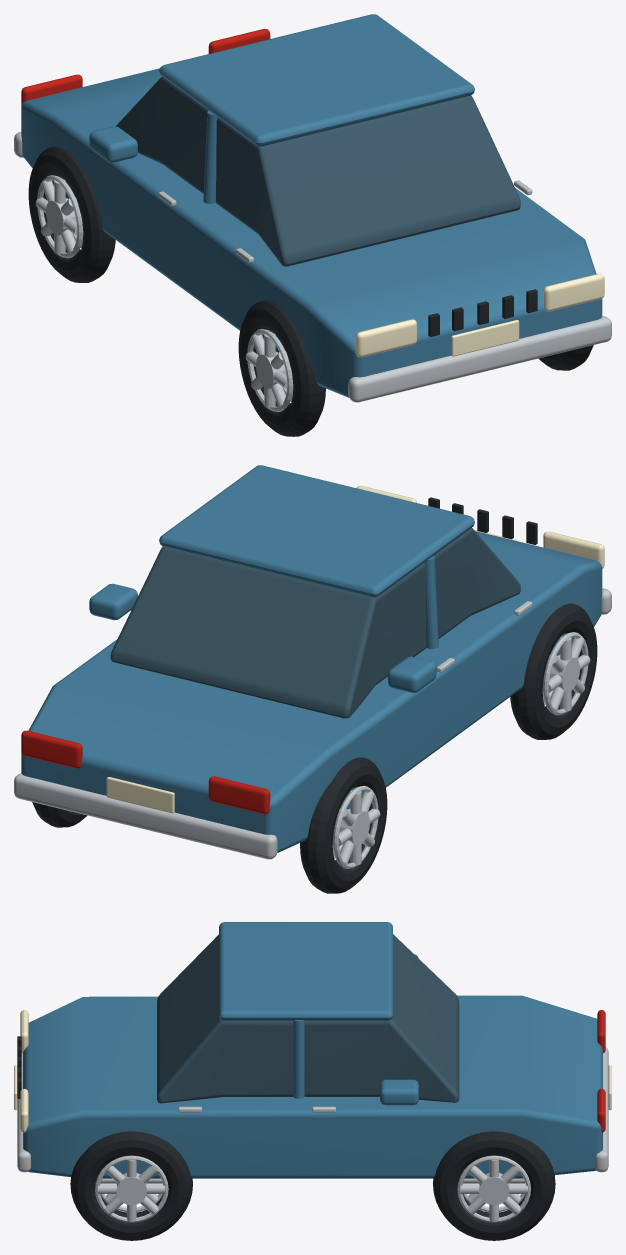
Rendered from sedan.glb.
3 renders of one model, top to bottom at view 1: azimuth 30°, elevation 25°; view 2: azimuth 150°, elevation 25°; view 3: azimuth 270°, elevation 25°, orthographic. The views are drawn at different scales.
Visible parts, largest first — view 1: Sculpted lower body, Cabin glass, Roof, Bumper, WheelFrontL_tire, WheelRearL_tire, Headlamp, Headlamp.001, License plate, Mirror, B pillar, Torus.004 (+6 smaller); view 2: Sculpted lower body, Cabin glass, Roof, Bumper.001, WheelRearL_tire, WheelFrontL_tire, Tail light, Tail light.001, License plate.001, Mirror, Mirror.001, Headlamp (+6 smaller); view 3: Sculpted lower body, Cabin glass, Roof, WheelRearR_tire, WheelFrontR_tire, Mirror.001, Torus.008, Torus.011, B pillar.001, Bumper.001, WheelFrontR_hub, WheelRearR_hub (+1 smaller).
Boxes of the visible parts, x1,y1,x2,y2 form: Sculpted lower body: [21, 68, 602, 397]; Cabin glass: [116, 76, 520, 266]; Roof: [159, 14, 474, 146]; Bumper: [348, 316, 611, 402]; WheelFrontL_tire: [238, 300, 325, 436]; WheelRearL_tire: [28, 146, 115, 282]; Headlamp: [355, 319, 417, 357]; Headlamp.001: [543, 273, 604, 311]; License plate: [451, 320, 519, 356]; Mirror: [89, 126, 137, 162]; B pillar: [203, 111, 217, 203]; Torus.004: [37, 175, 82, 258]; Sculpted lower body: [21, 531, 602, 852]; Cabin glass: [110, 528, 520, 718]; Roof: [159, 465, 474, 597]; Bumper.001: [14, 773, 277, 859]; WheelRearL_tire: [300, 757, 387, 893]; WheelFrontL_tire: [510, 603, 597, 739]; Tail light: [208, 776, 270, 814]; Tail light.001: [21, 730, 82, 768]; License plate.001: [106, 777, 174, 813]; Mirror: [388, 656, 436, 692]; Mirror.001: [89, 583, 137, 620]; Headlamp: [543, 531, 604, 568]; Sculpted lower body: [23, 995, 602, 1178]; Cabin glass: [157, 934, 459, 1103]; Roof: [219, 922, 392, 1020]; WheelRearR_tire: [433, 1131, 555, 1240]; WheelFrontR_tire: [70, 1131, 192, 1240]; Mirror.001: [380, 1079, 418, 1105]; Torus.008: [95, 1155, 168, 1222]; Torus.011: [457, 1155, 530, 1222]; B pillar.001: [293, 1020, 304, 1098]; Bumper.001: [595, 1047, 608, 1172]; WheelFrontR_hub: [116, 1173, 146, 1205]; WheelRearR_hub: [479, 1173, 509, 1205].
Size of the model in its own units: 2.35 by 1.71 by 4.29.
